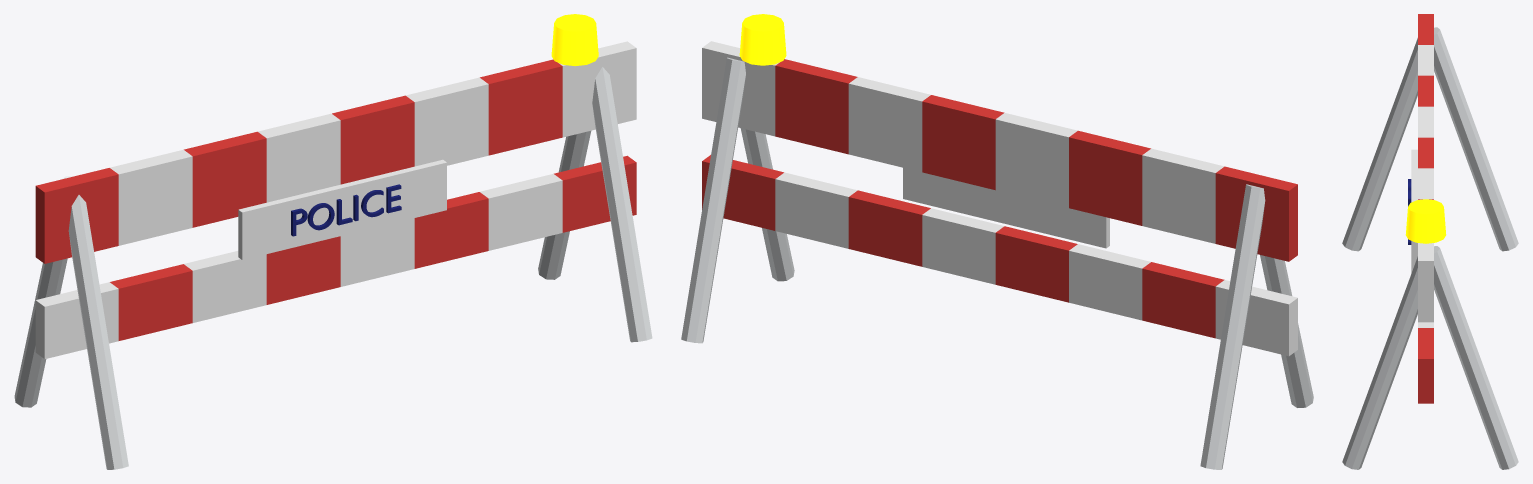
The model's file is streets_barrier.glb.
3 views of the same model, side by side, from view 1: azimuth 30°, elevation 25°; view 2: azimuth 150°, elevation 25°; view 3: azimuth 270°, elevation 25° (orthographic). The views are drawn at different scales.
Visible parts, largest first — view 1: Barrier_body, Blinker; view 2: Barrier_body, Blinker; view 3: Barrier_body, Blinker.
Part boxes in pixels (left/top/right/bottom): Barrier_body: left=14, top=41, right=652, bottom=469; Blinker: left=551, top=14, right=598, bottom=66; Barrier_body: left=681, top=41, right=1313, bottom=469; Blinker: left=739, top=14, right=786, bottom=65; Barrier_body: left=1342, top=14, right=1518, bottom=469; Blinker: left=1405, top=199, right=1446, bottom=243.
Bounding box in the file's own units: 2.6 × 1.23 × 0.7854.
